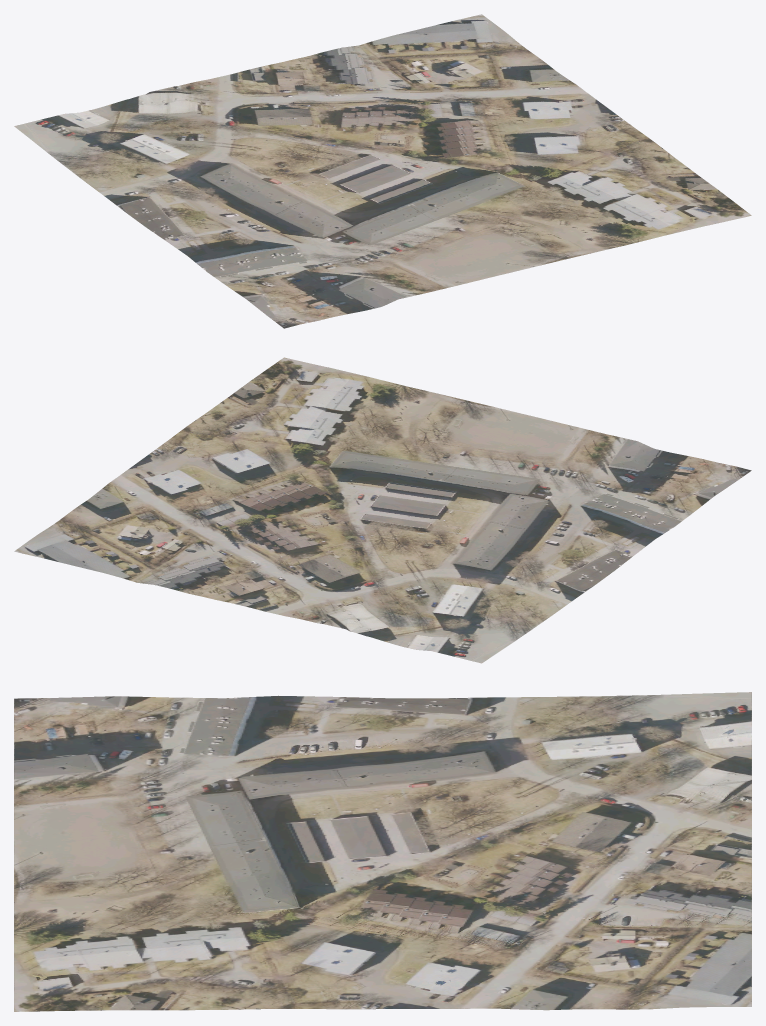
File: CM_Terrain_24490868_6820613.fbx
3 views of the same model, one above another, from view 1: azimuth 30°, elevation 25°; view 2: azimuth 150°, elevation 25°; view 3: azimuth 270°, elevation 25° (orthographic). The views are drawn at different scales.
Visible parts, largest first — view 1: CM_Terrain_24490868_6820613_LOD0; view 2: CM_Terrain_24490868_6820613_LOD0; view 3: CM_Terrain_24490868_6820613_LOD0.
Boxes of the visible parts, x1,y1,x2,y2 form: CM_Terrain_24490868_6820613_LOD0: (14,14,751,328); CM_Terrain_24490868_6820613_LOD0: (14,357,751,663); CM_Terrain_24490868_6820613_LOD0: (14,692,751,1011).
Size of what is drawn, in the model's own units: 205 by 3.95 by 205.
